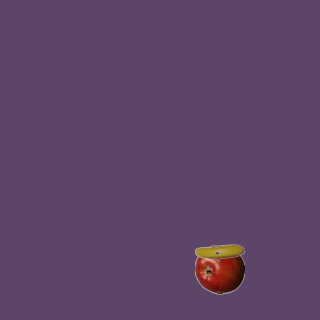Apple Braeburn: (194, 244, 244, 294)
Banana: (194, 227, 244, 277)
